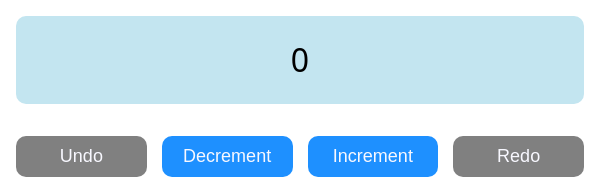
Test case: History Controller › Clicking Decrement decreases count value by 1
Click the button with test id "decrement-btn": [227, 156] box [162,136,293,177]
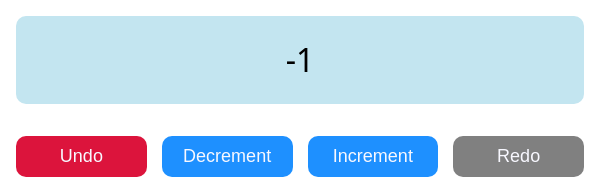
Expected: the text with test id "counter-value" reads "-1", [286,38,314,81]
